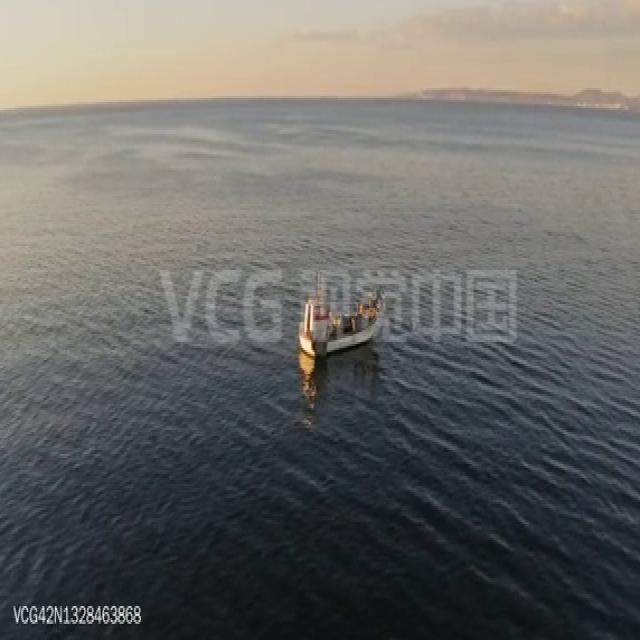houseboat: (292, 270, 383, 350)
